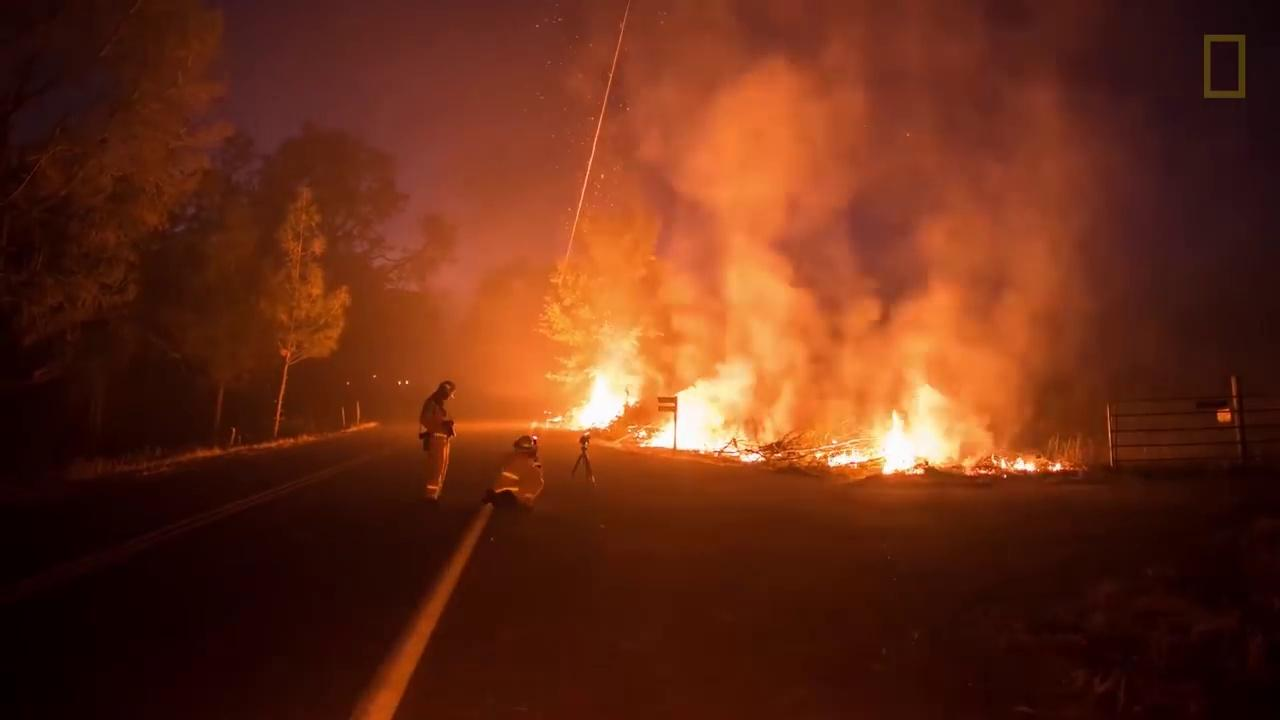Fire: (639, 356, 771, 464), (825, 376, 955, 479), (552, 355, 630, 432), (1002, 449, 1065, 474)
